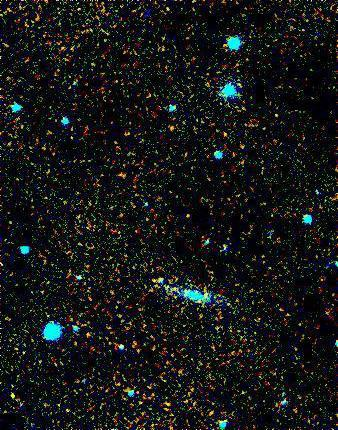star: (136, 266, 166, 296)
